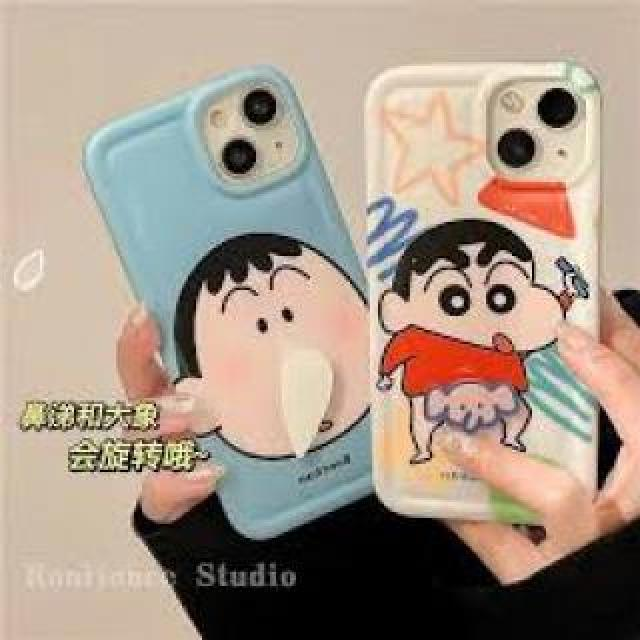smart phone: (73, 50, 367, 522), (386, 32, 612, 523)
